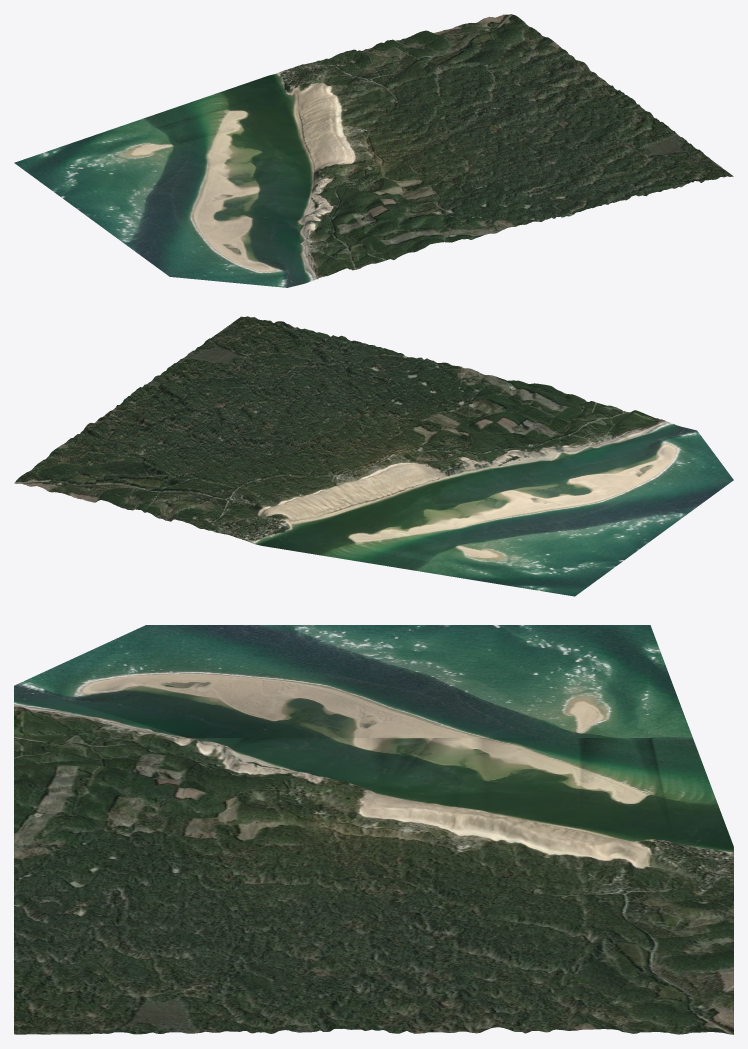
Rendered from dune_of_pilat__dune_du_pilat_eus_largest_dune.glb.
3 renders of one model, top to bottom at view 1: azimuth 30°, elevation 25°; view 2: azimuth 150°, elevation 25°; view 3: azimuth 270°, elevation 25°, orthographic. The views are drawn at different scales.
Visible parts, largest first — view 1: Object_4; view 2: Object_4; view 3: Object_4.
Part boxes in pixels (x1,y1,x2,y2): Object_4: (14,14,733,287); Object_4: (14,316,733,596); Object_4: (14,625,733,1034).
Size of the model in its own units: 12214 by 262 by 8986.
1 material, 1 textured.
